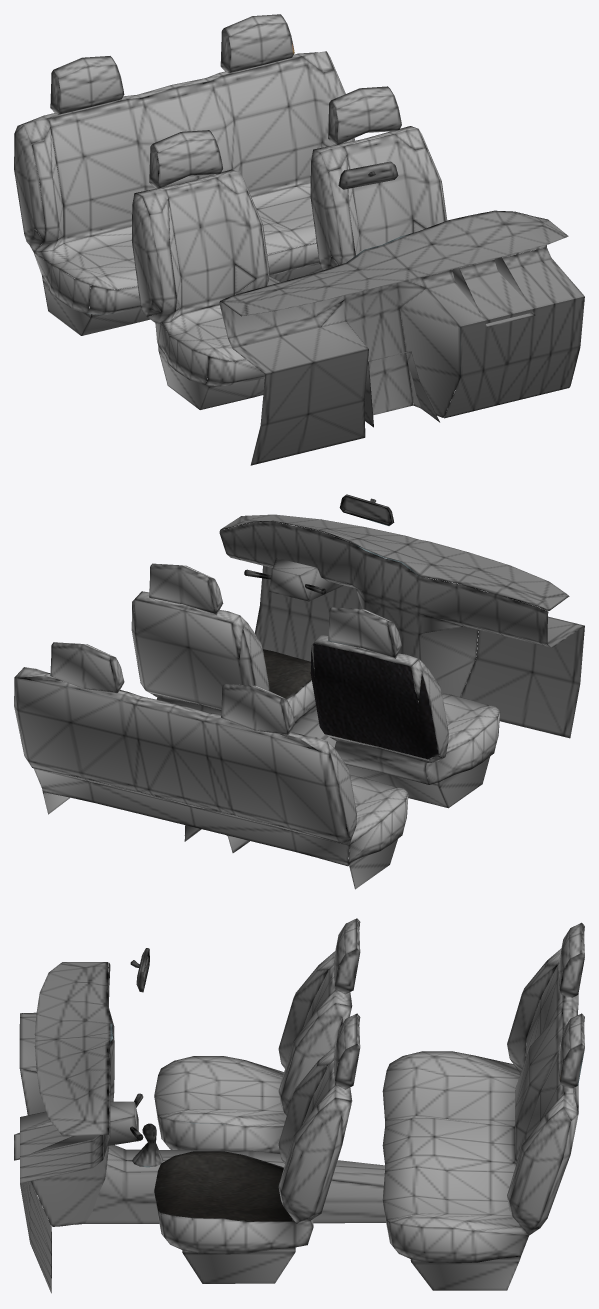
The model's file is jeep_Interior.obj.
The picture shows the model from 3 angles, top to bottom: view 1: azimuth 30°, elevation 25°; view 2: azimuth 150°, elevation 25°; view 3: azimuth 270°, elevation 25°; orthographic projection. The views are drawn at different scales.
Bounding box in the file's own units: 2.08 × 1.37 × 2.83.
